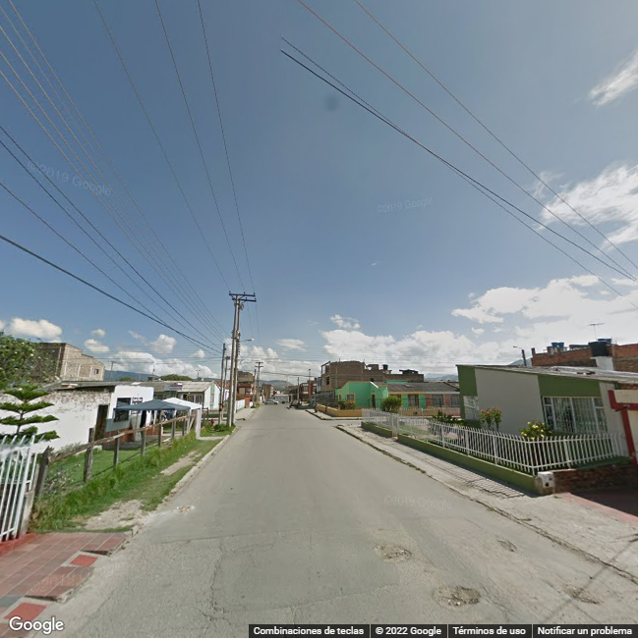D00: (539, 573, 601, 622), (206, 532, 223, 614)
D40: (434, 581, 488, 607), (372, 537, 421, 564)
